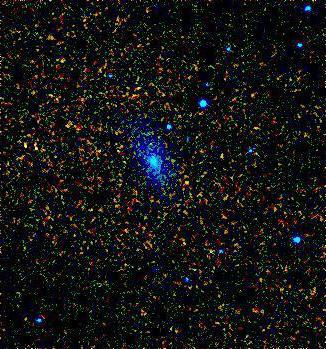star: (173, 165, 203, 195)
